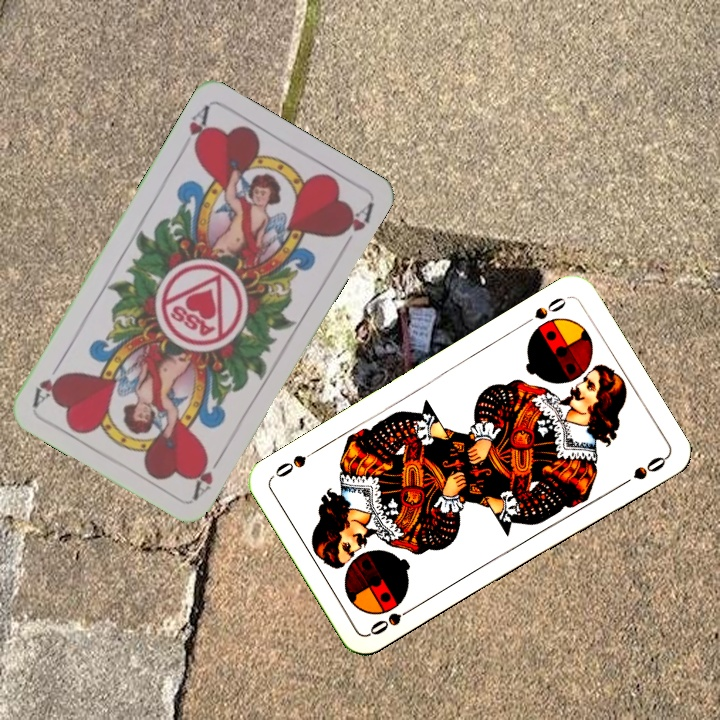HA: (189, 448, 227, 502), (184, 102, 212, 157)
SO: (365, 601, 419, 638), (517, 293, 569, 329)
